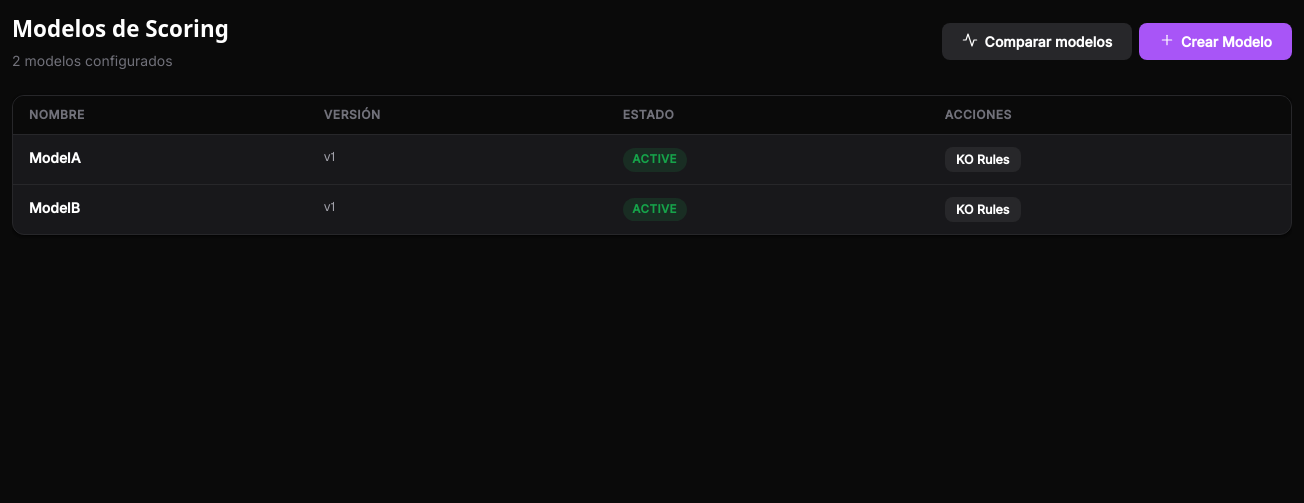
ScoringModels — Compare panel › shows error when same model selected for both
Expected: the text "ModelA" is shown, [29,149,81,166]
Click the button "Comparar modelos" at (1037, 41), box [942,23,1132,60]
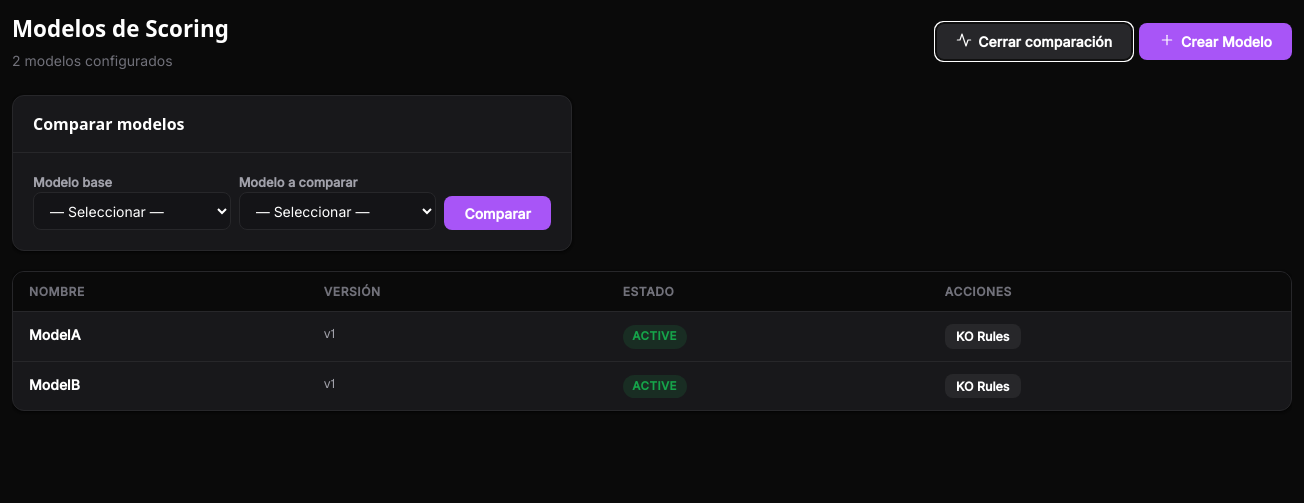
Select "ModelA v1" in the dropdown labelled "Modelo base" at (132, 211), box [33,192,231,230]
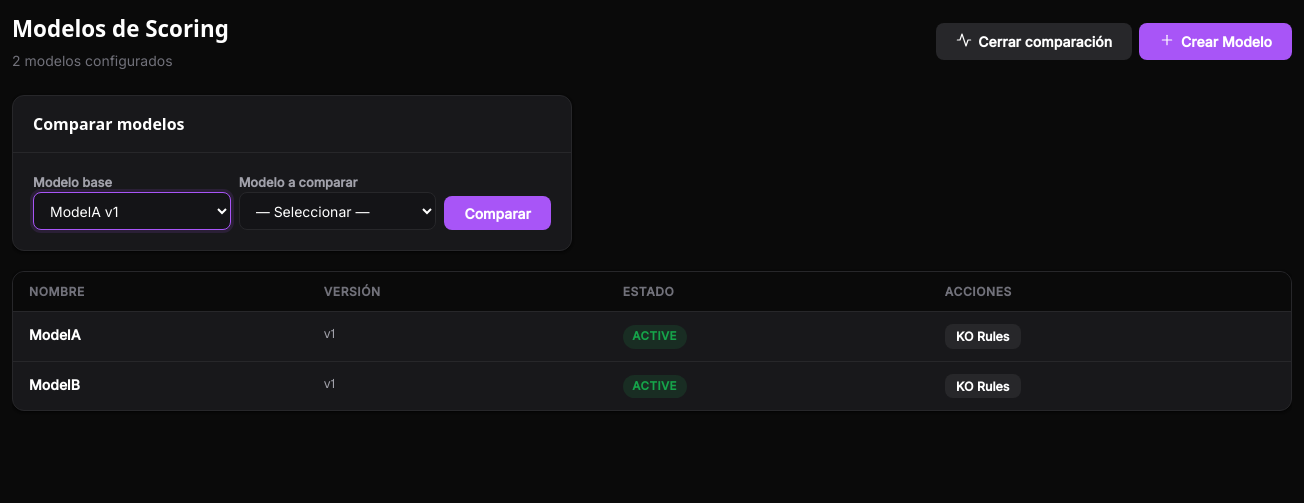
Select "ModelA v1" in the dropdown labelled "Modelo a comparar" at (338, 211), box [239,192,436,230]
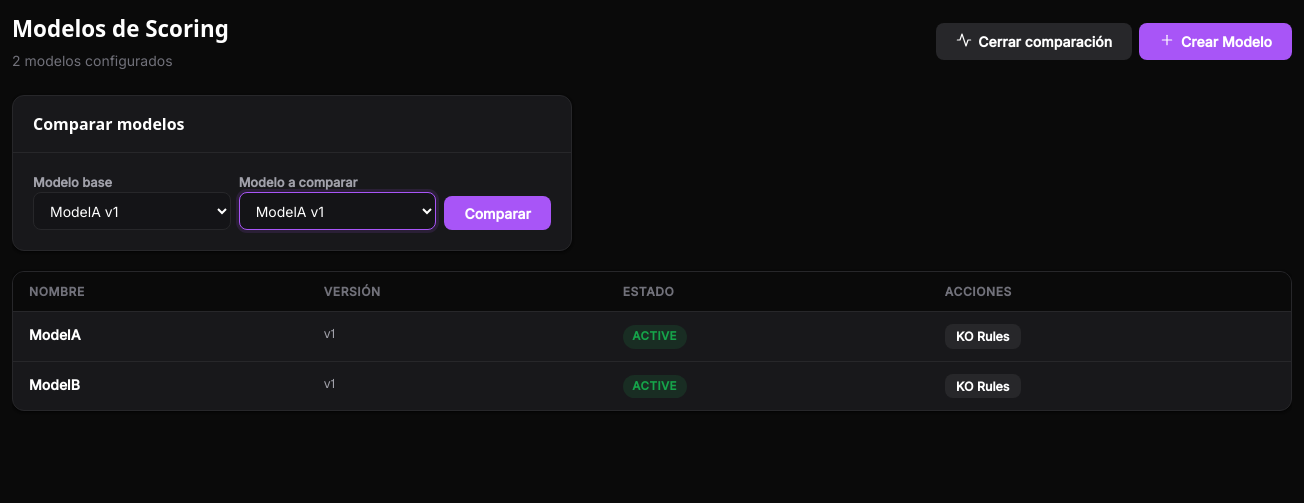
Click the button "Comparar" at (498, 213), box [444,196,551,230]
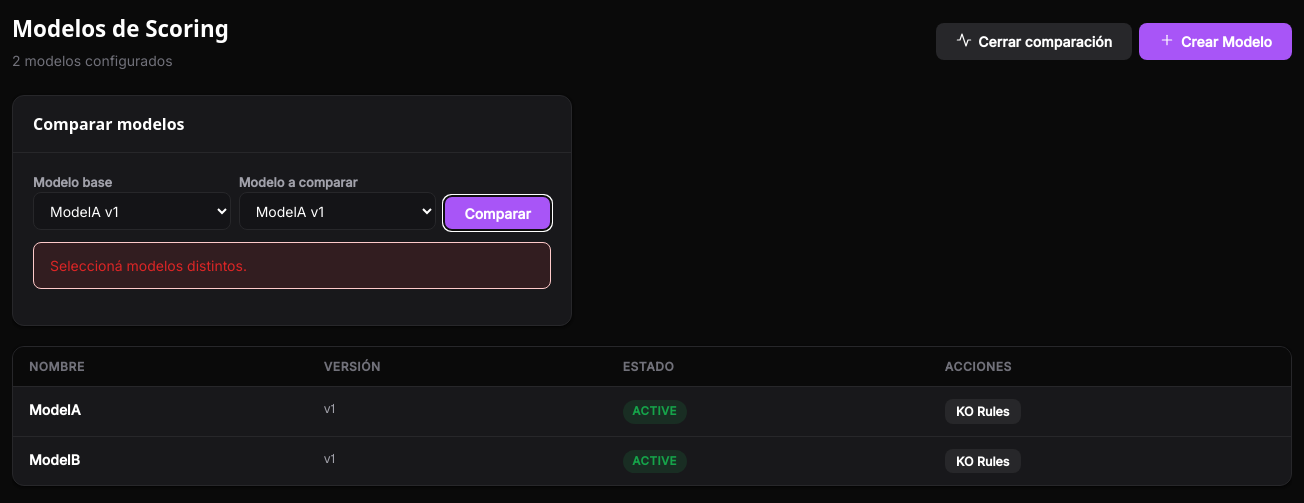
Expected: the text "Seleccioná modelos distintos." is shown, [33,242,551,289]
